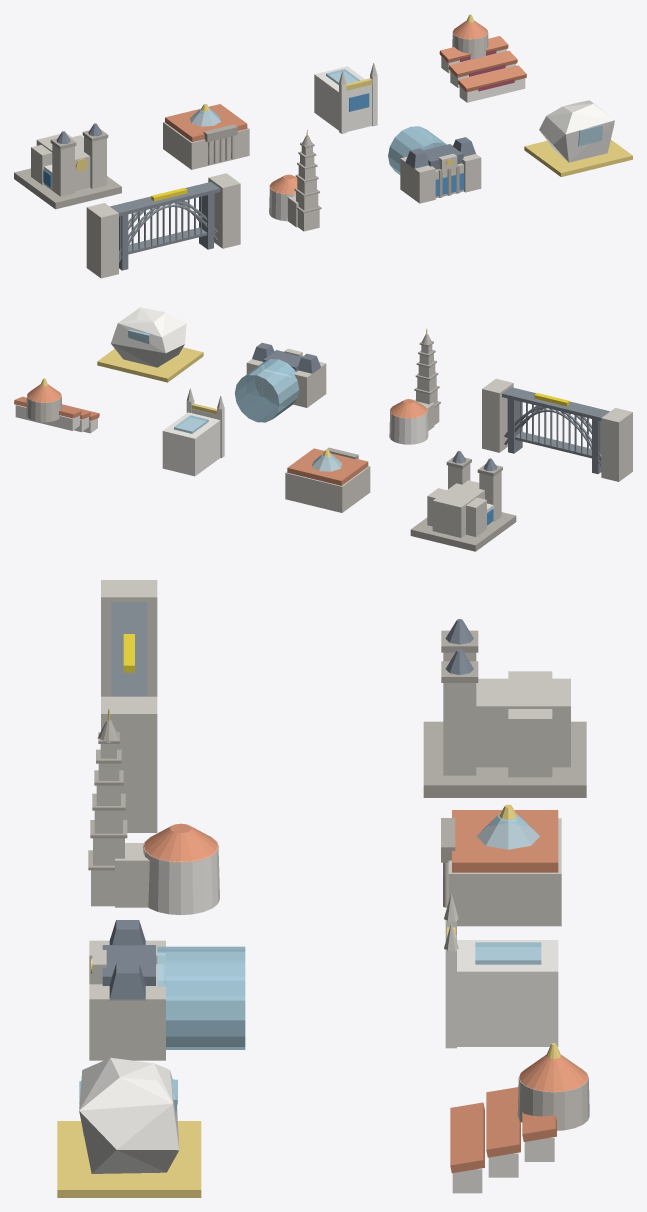
File: porto_monuments.glb
The picture shows the model from 3 angles, top to bottom: view 1: azimuth 30°, elevation 25°; view 2: azimuth 150°, elevation 25°; view 3: azimuth 270°, elevation 25°; orthographic projection. The views are drawn at different scales.
Visible parts, largest first — view 1: Casa_Polyhedron_Hull, Luis_Abutment_-1, Bolsa_Main_Block, Luis_Abutment_1, Casa_Travertine_Plaza, Bolsa_Roof, Se_Terreiro_Platform, Lello_Body, SBento_Train_Shed, SBento_Wing_-1, Luis_Upper_Deck, Se_Tower_-1 (+23 smaller); view 2: Casa_Polyhedron_Hull, SBento_Train_Shed, Lello_Body, Bolsa_Main_Block, Luis_Abutment_-1, Se_Nave, Luis_Abutment_1, Bolsa_Roof, Casa_Travertine_Plaza, Se_Terreiro_Platform, SBento_Wing_-1, Luis_Upper_Deck (+15 smaller); view 3: Lello_Body, Casa_Polyhedron_Hull, SBento_Train_Shed, Casa_Travertine_Plaza, Bolsa_Main_Block, Bolsa_Roof, Se_Terreiro_Platform, Se_Nave, Luis_Abutment_1, SBento_Wing_1, Clerigos_Nave, Se_Transept (+16 smaller).
Boxes of the visible parts, left/top/right/bottom form: Casa_Polyhedron_Hull: left=539, top=100, right=614, bottom=162; Luis_Abutment_-1: left=86, top=203, right=118, bottom=278; Bolsa_Main_Block: left=163, top=121, right=249, bottom=169; Luis_Abutment_1: left=208, top=173, right=240, bottom=248; Casa_Travertine_Plaza: left=524, top=139, right=632, bottom=176; Bolsa_Roof: left=165, top=104, right=247, bottom=142; Se_Terreiro_Platform: left=14, top=168, right=121, bottom=209; Lello_Body: left=314, top=66, right=364, bottom=130; SBento_Train_Shed: left=388, top=126, right=446, bottom=174; SBento_Wing_-1: left=400, top=156, right=435, bottom=203; Luis_Upper_Deck: left=110, top=182, right=220, bottom=216; Se_Tower_-1: left=52, top=144, right=74, bottom=196; Casa_Polyhedron_Hull: left=111, top=307, right=186, bottom=367; SBento_Train_Shed: left=234, top=359, right=299, bottom=422; Lello_Body: left=162, top=412, right=220, bottom=476; Bolsa_Main_Block: left=285, top=466, right=370, bottom=512; Luis_Abutment_-1: left=601, top=408, right=632, bottom=481; Se_Nave: left=432, top=480, right=484, bottom=537; Luis_Abutment_1: left=482, top=378, right=513, bottom=452; Bolsa_Roof: left=287, top=448, right=368, bottom=485; Casa_Travertine_Plaza: left=97, top=347, right=203, bottom=382; Se_Terreiro_Platform: left=410, top=512, right=516, bottom=551; SBento_Wing_-1: left=292, top=362, right=326, bottom=407; Luis_Upper_Deck: left=502, top=387, right=609, bottom=420; Lello_Body: left=457, top=940, right=558, bottom=1046; Casa_Polyhedron_Hull: left=79, top=1057, right=179, bottom=1173; SBento_Train_Shed: left=157, top=946, right=245, bottom=1049; Casa_Travertine_Plaza: left=57, top=1121, right=201, bottom=1197; Bolsa_Main_Block: left=448, top=818, right=561, bottom=926; Bolsa_Roof: left=452, top=810, right=558, bottom=872; Se_Terreiro_Platform: left=423, top=721, right=586, bottom=797; Se_Nave: left=476, top=678, right=570, bottom=767; Luis_Abutment_1: left=101, top=696, right=157, bottom=832; SBento_Wing_1: left=89, top=984, right=165, bottom=1060; Clerigos_Nave: left=143, top=836, right=219, bottom=914; Se_Transept: left=508, top=671, right=552, bottom=777.
Size of the model in its own units: 37.65 by 7.17 by 17.
